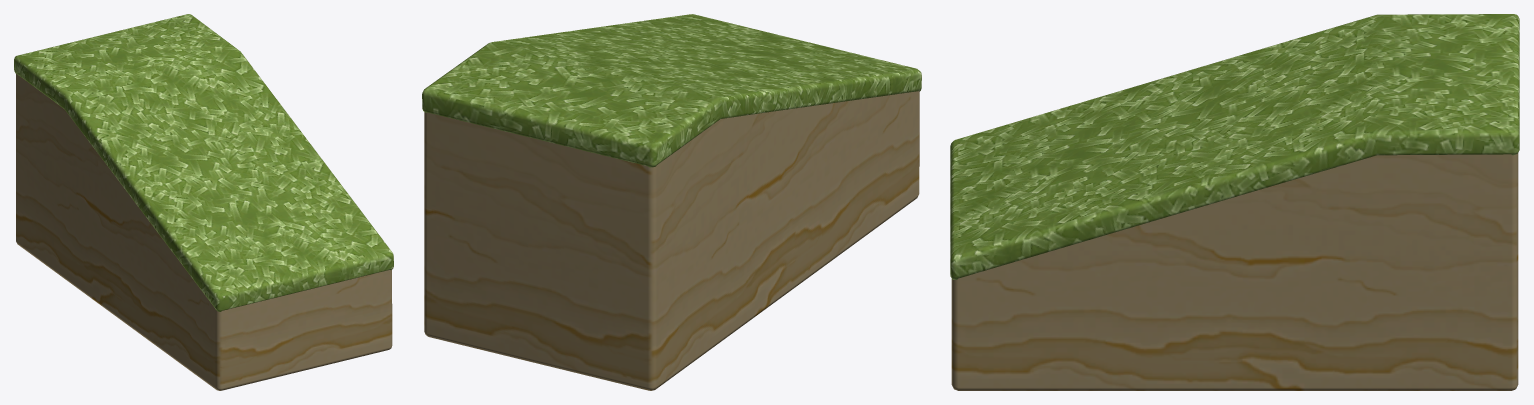
Rendered from SM_Platform_2m_04_A_Ramp.glb.
The picture shows the model from 3 angles, left to right: view 1: azimuth 30°, elevation 25°; view 2: azimuth 150°, elevation 25°; view 3: azimuth 270°, elevation 25°; orthographic projection. The views are drawn at different scales.
Visible parts, largest first — view 1: SM_Platform_2m_04_A_Ramp; view 2: SM_Platform_2m_04_A_Ramp; view 3: SM_Platform_2m_04_A_Ramp.
Part boxes in pixels (x1,y1,x2,y2): SM_Platform_2m_04_A_Ramp: [14, 14, 393, 390]; SM_Platform_2m_04_A_Ramp: [422, 14, 921, 390]; SM_Platform_2m_04_A_Ramp: [950, 14, 1519, 390].
Bounding box in the file's own units: 2.02 × 2.05 × 4.03.
Materials: 2 (2 with a texture image).
